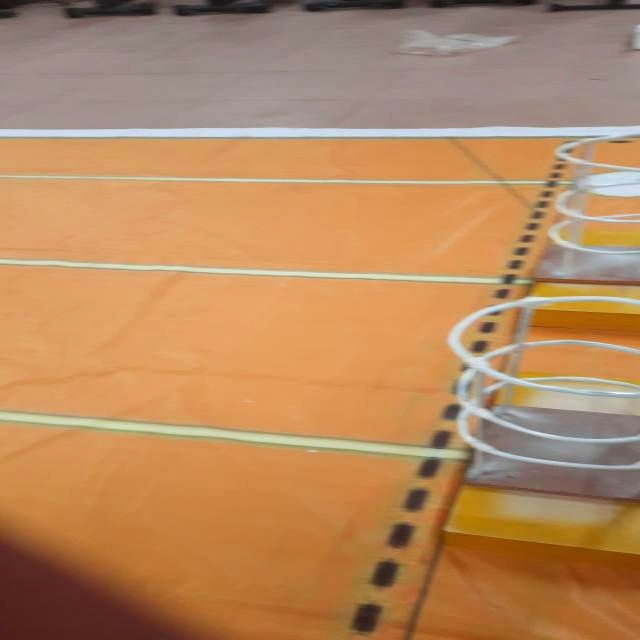silo: (432, 284, 640, 526)
